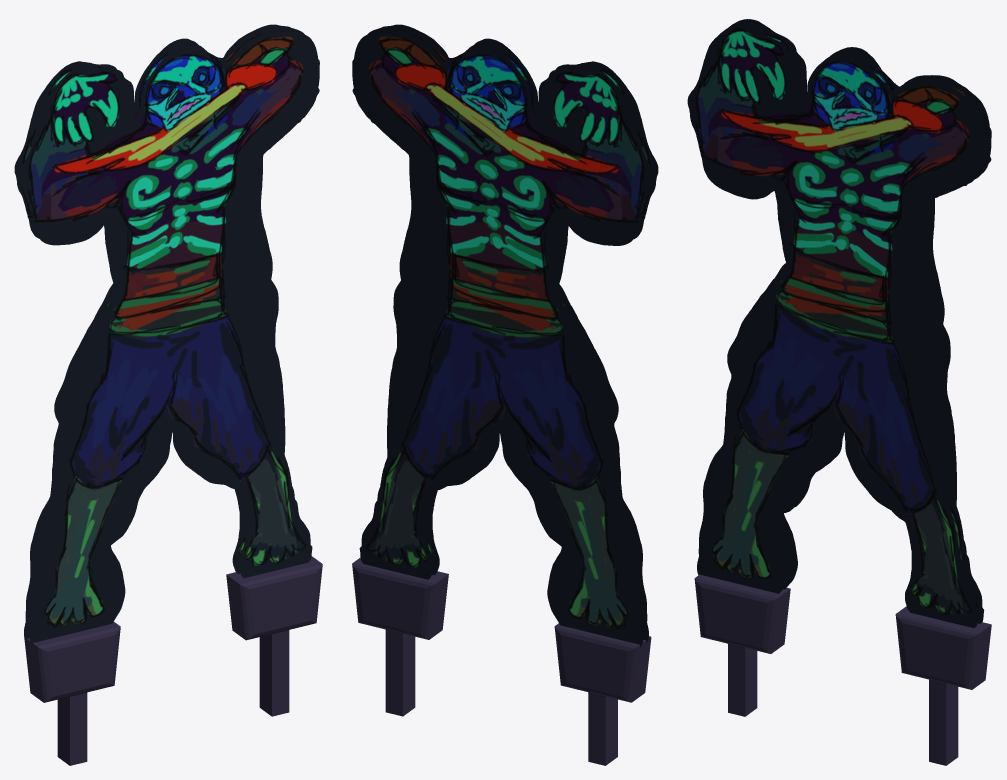
The model's file is Skeleton.fbx.
The picture shows the model from 3 angles, left to right: view 1: azimuth 30°, elevation 25°; view 2: azimuth 150°, elevation 25°; view 3: azimuth 330°, elevation 25°; orthographic projection.
Visible parts, largest first — view 1: Skeleton, SkeletonHolder; view 2: Skeleton, SkeletonHolder; view 3: Skeleton, SkeletonHolder.
Part boxes in pixels (x1,y1,x2,y2): Skeleton: [14, 24, 319, 645]; SkeletonHolder: [24, 556, 322, 765]; Skeleton: [352, 24, 658, 647]; SkeletonHolder: [352, 557, 651, 765]; Skeleton: [687, 19, 991, 628]; SkeletonHolder: [694, 574, 991, 765].
Size of the model in its own units: 546 by 1203 by 53.34.
